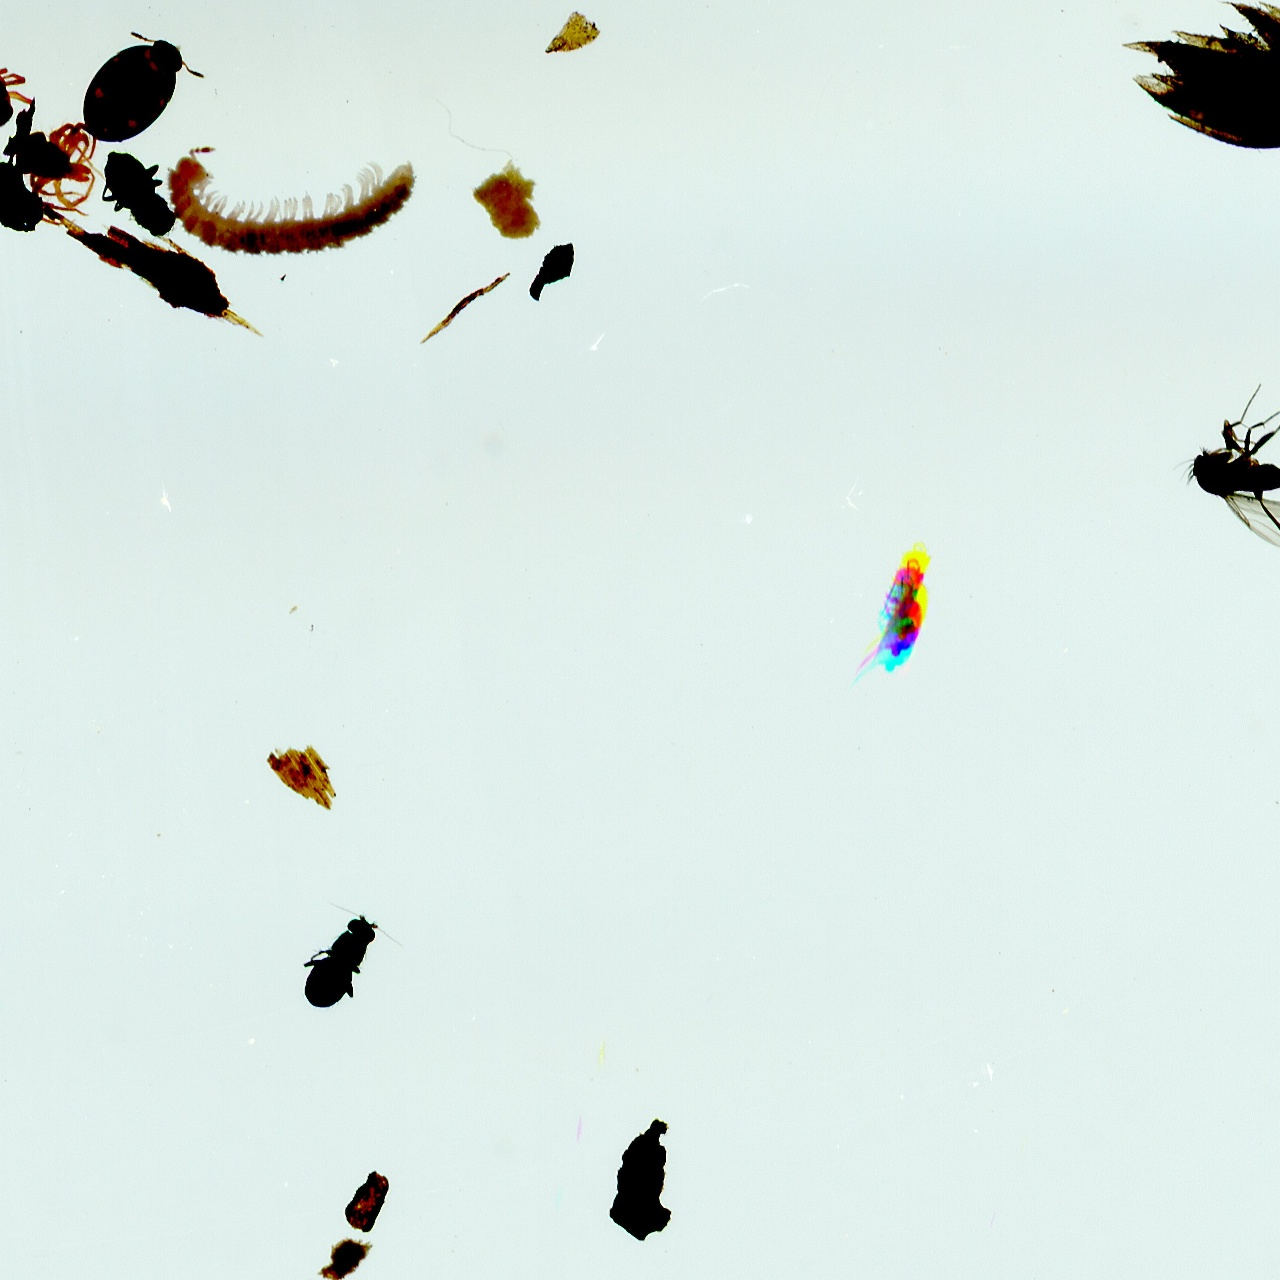arthropod: (162, 143, 418, 260), (1167, 355, 1280, 594), (268, 886, 415, 1041), (80, 29, 207, 145), (22, 118, 110, 218), (98, 147, 181, 241), (0, 19, 35, 144)
